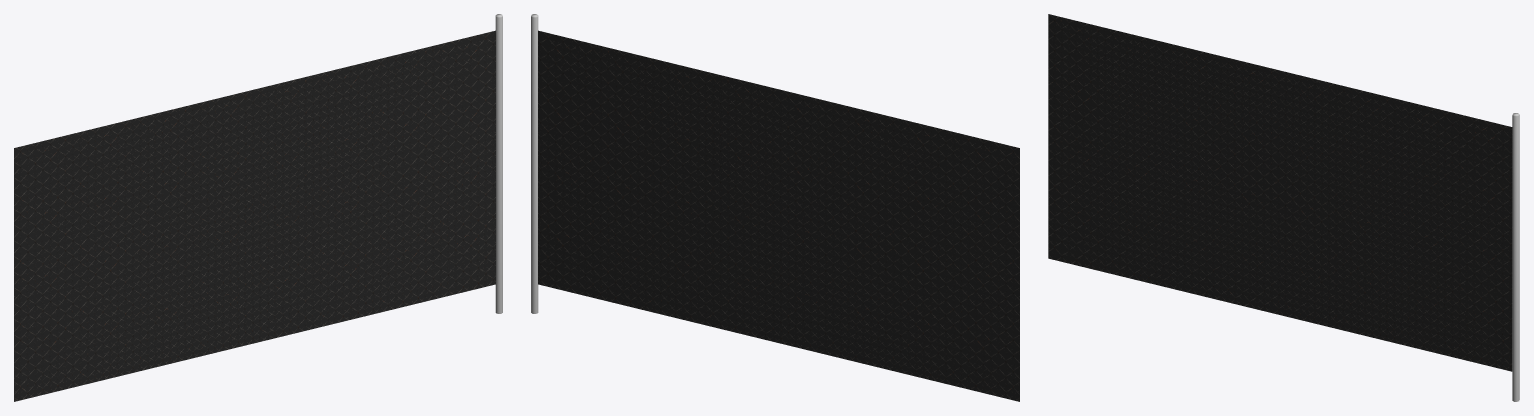
Rendered from Wire_fence2.fbx.
3 renders of one model, left to right at view 1: azimuth 30°, elevation 25°; view 2: azimuth 150°, elevation 25°; view 3: azimuth 330°, elevation 25°, orthographic. The views are drawn at different scales.
Visible parts, largest first — view 1: polySurface939; view 2: polySurface939; view 3: polySurface939.
Part boxes in pixels (x1,y1,x2,y2): polySurface939: [14, 14, 502, 401]; polySurface939: [531, 14, 1019, 401]; polySurface939: [1048, 14, 1519, 401].
Bounding box in the file's own units: 6.04 × 3.51 × 0.081.
